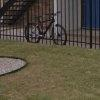Bicycle: (20, 9, 75, 48)
